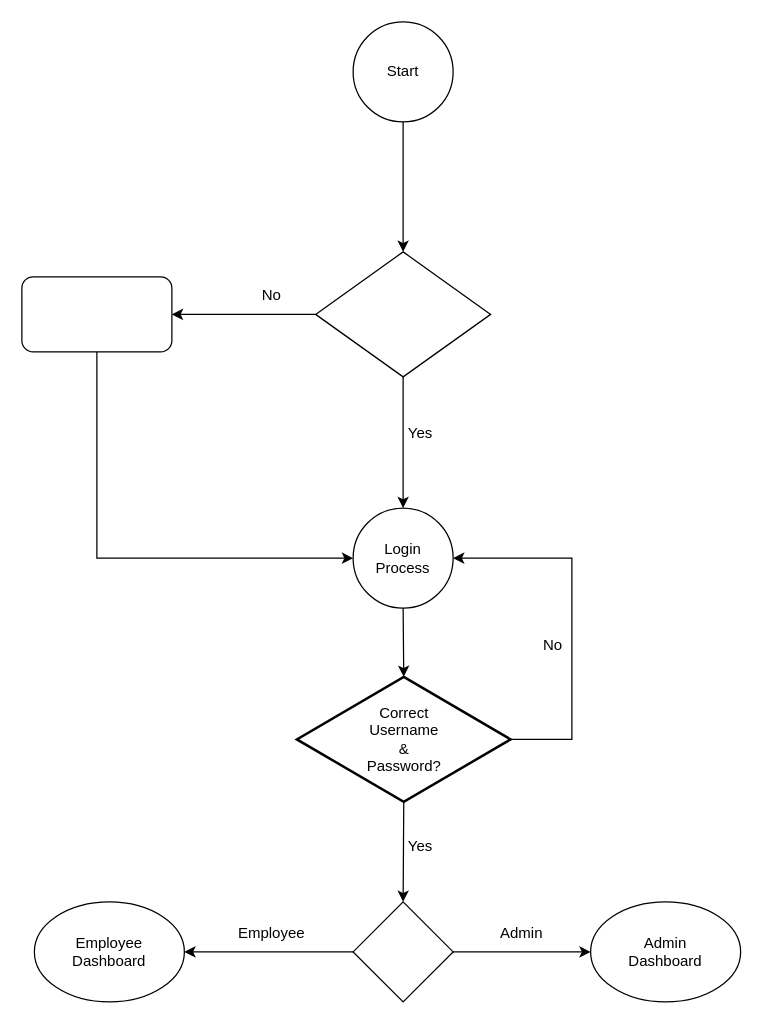
Image size: 763x1024. Some labels were removed from this diagram. The shapes that lost their labels are listed below. From the top down, each one's centre as x and y in pixels, then its label:
At [96,314]: "Register Account".
At [402,314]: "Do you have an account?".
At [402,951]: "Employee or Admin?".
